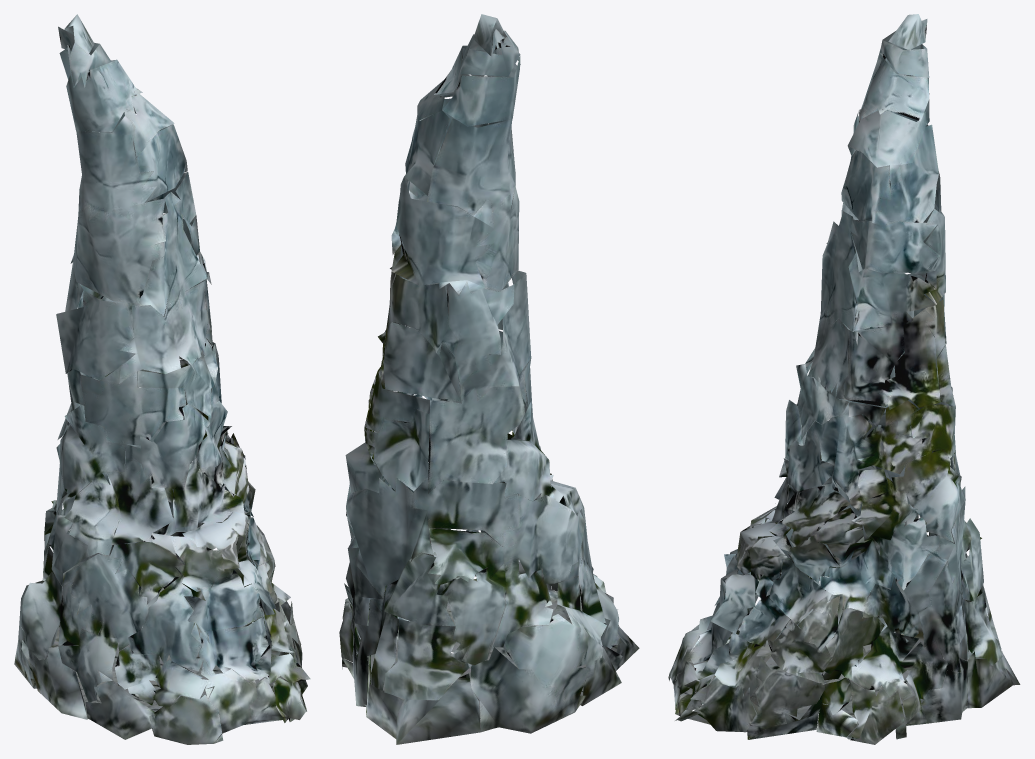
File: spire_ice.glb
3 renders of one model, left to right at view 1: azimuth 30°, elevation 25°; view 2: azimuth 150°, elevation 25°; view 3: azimuth 270°, elevation 25°, orthographic. The views are drawn at different scales.
Visible parts, largest first — view 1: spire_ice_p2; view 2: spire_ice_p2; view 3: spire_ice_p2.
Part boxes in pixels (x1,y1,x2,y2): spire_ice_p2: (14,14,310,744); spire_ice_p2: (339,14,639,744); spire_ice_p2: (668,14,1020,744).
Bounding box in the file's own units: 0.7368 × 1.95 × 0.943.
1 material, 1 textured.
